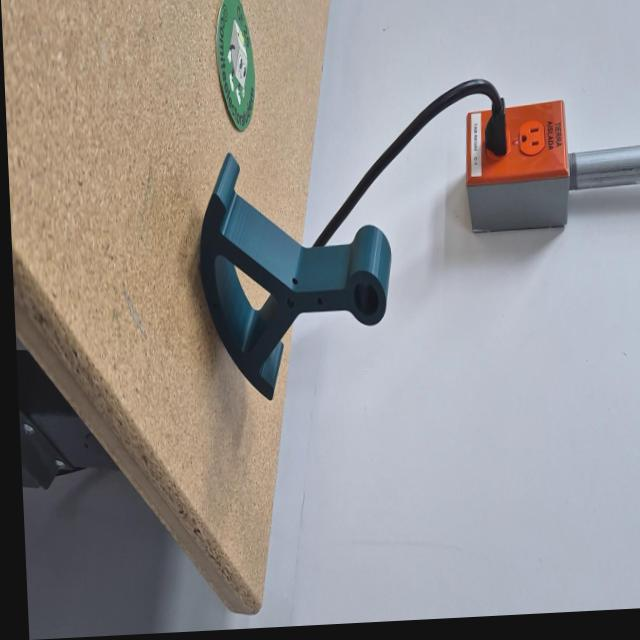haptic: (193, 141, 398, 407)
